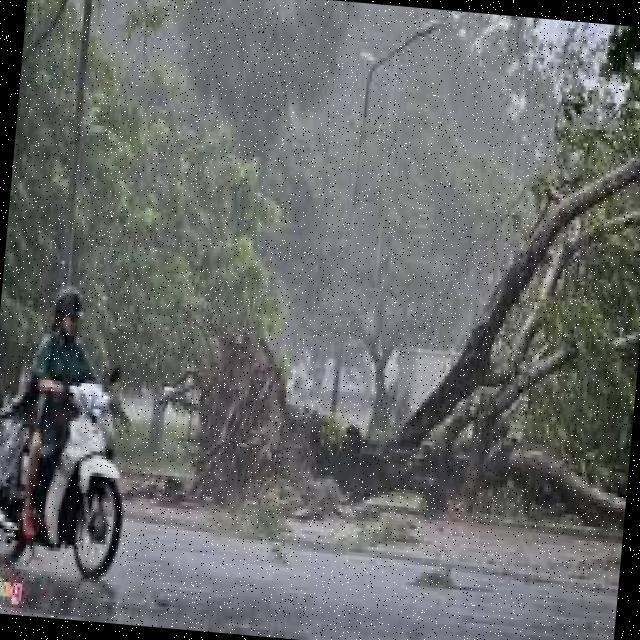fallen_object: (164, 291, 640, 540)
